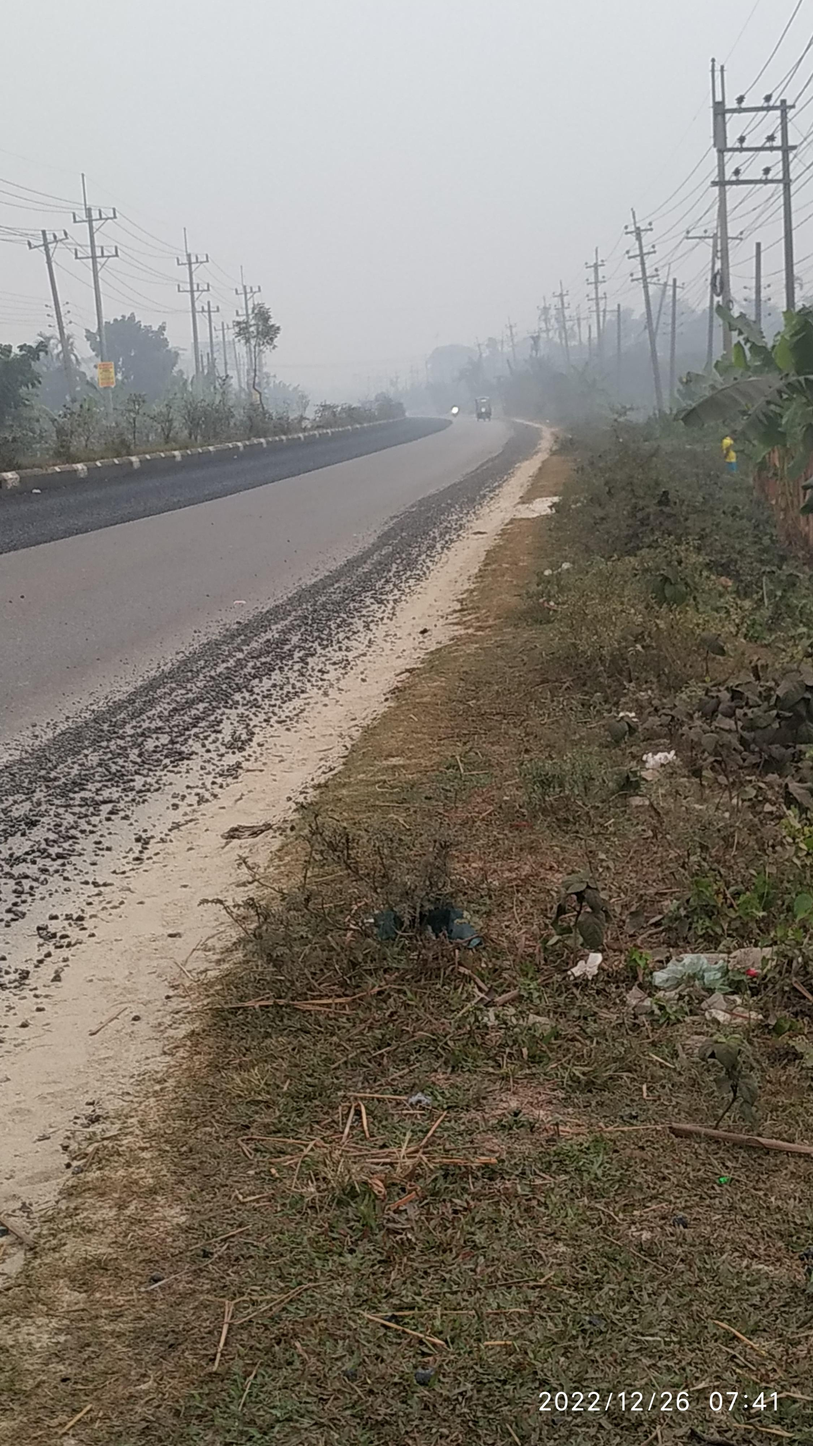Car: (465, 393, 507, 428)
